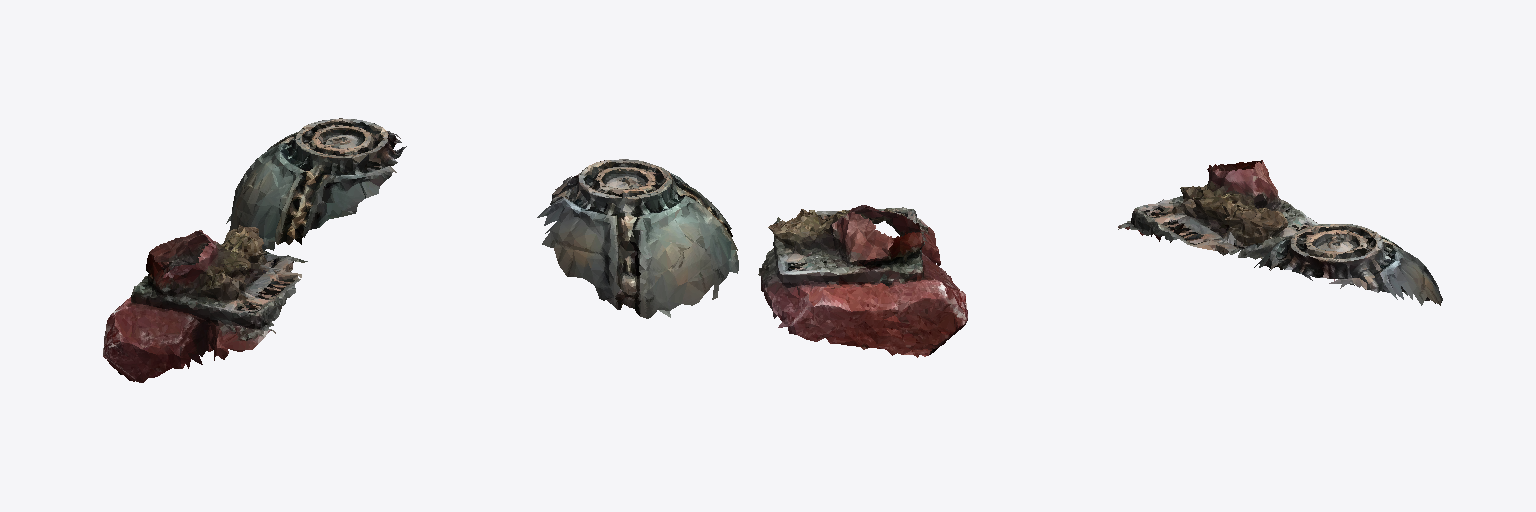
3 views of the same model, side by side, from view 1: azimuth 30°, elevation 25°; view 2: azimuth 150°, elevation 25°; view 3: azimuth 270°, elevation 25° (orthographic).
Visible parts, largest first — view 1: NewDomeLO_2; view 2: NewDomeLO_2; view 3: NewDomeLO_2.
Boxes of the visible parts, x1=… form: NewDomeLO_2: x1=103, y1=118, x2=406, y2=382; NewDomeLO_2: x1=537, y1=159, x2=967, y2=357; NewDomeLO_2: x1=1118, y1=160, x2=1442, y2=305.
Bounding box in the file's own units: 3630 × 1430 × 2921.
Materials: 1 (1 with a texture image).